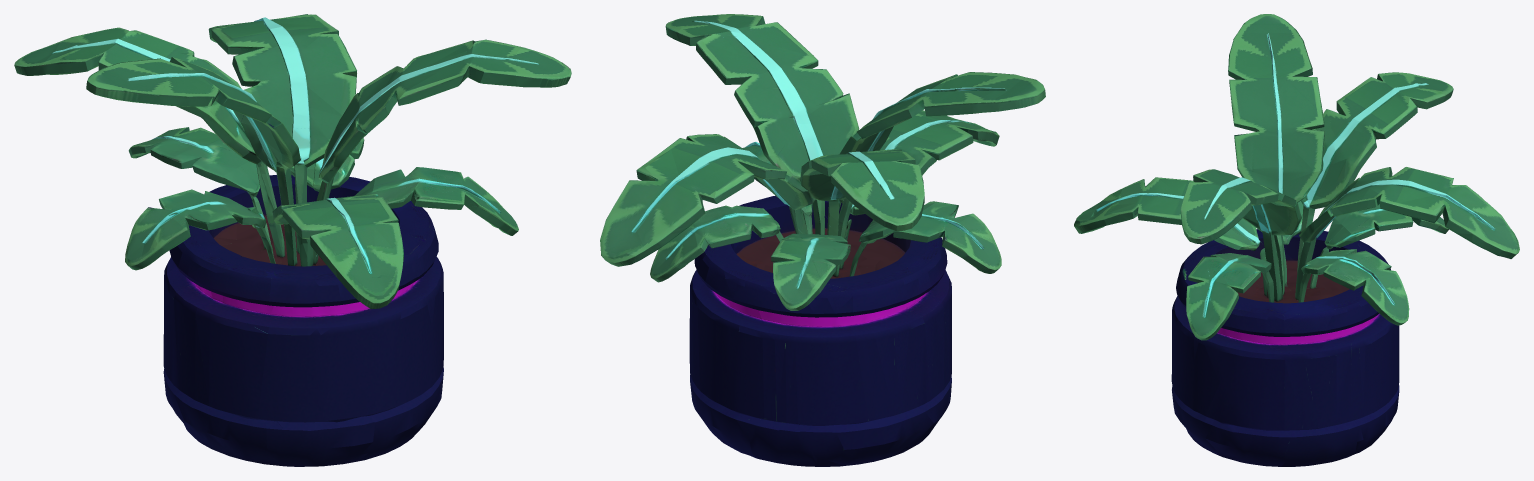
File: maceta-planta.glb
3 renders of one model, left to right at view 1: azimuth 30°, elevation 25°; view 2: azimuth 150°, elevation 25°; view 3: azimuth 270°, elevation 25°, orthographic. The views are drawn at different scales.
Visible parts, largest first — view 1: Mesh_0; view 2: Mesh_0; view 3: Mesh_0.
Boxes of the visible parts, x1,y1,x2,y2 form: Mesh_0: (14, 14, 571, 466); Mesh_0: (600, 14, 1045, 466); Mesh_0: (1074, 14, 1519, 466).
Bounding box in the file's own units: 1.76 × 1.54 × 1.9.
1 material, 1 textured.
